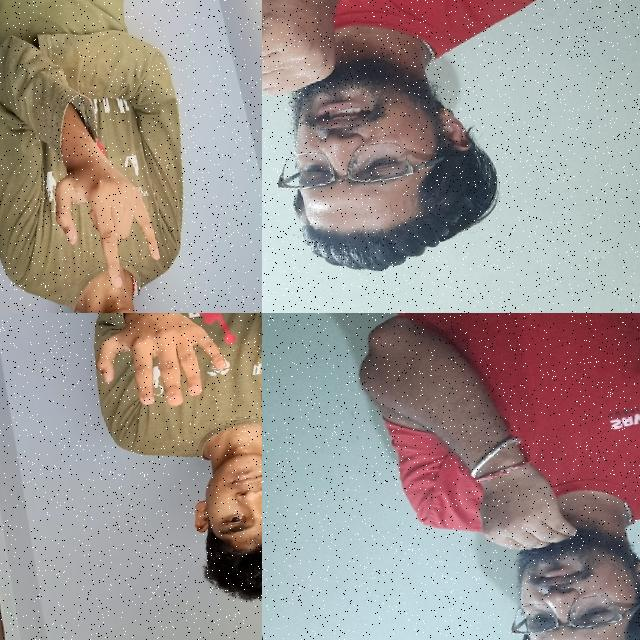Chin Flick: (456, 446, 640, 640)
Corna: (44, 138, 182, 301)
Fist Mouth: (262, 0, 498, 290)
Moutza: (77, 313, 248, 432)
